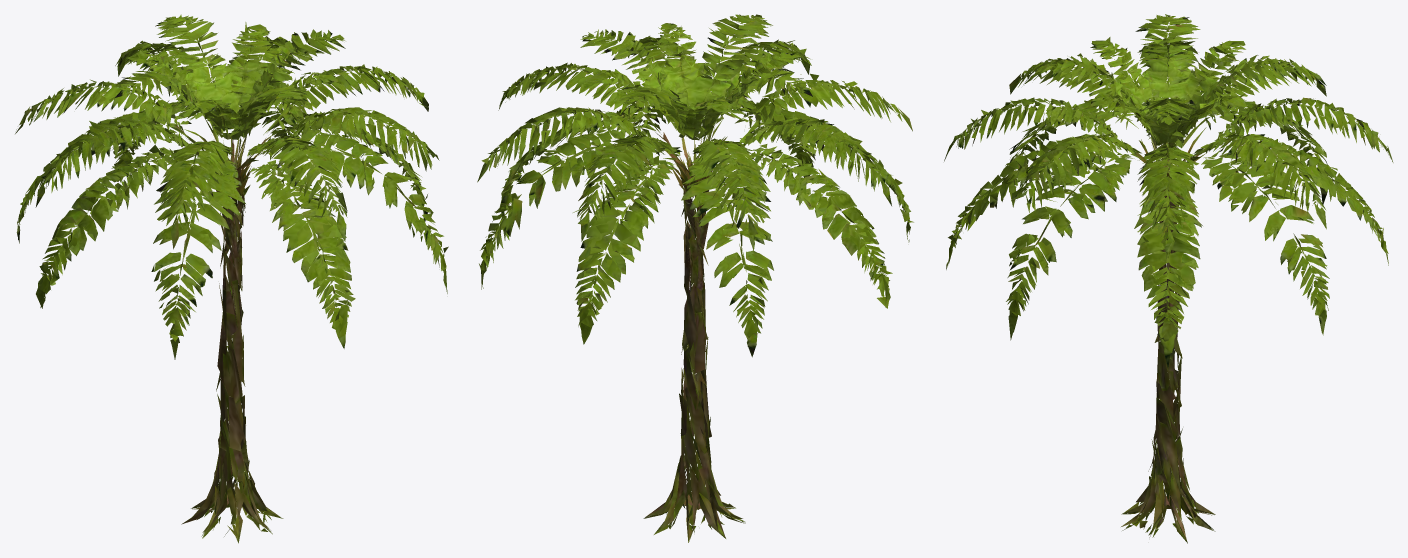
Rendered from treefern2.glb.
The picture shows the model from 3 angles, left to right: view 1: azimuth 30°, elevation 25°; view 2: azimuth 150°, elevation 25°; view 3: azimuth 270°, elevation 25°; orthographic projection.
Parts seen in each view (by area): view 1: Mesh_0; view 2: Mesh_0; view 3: Mesh_0.
Boxes of the visible parts, x1,y1,x2,y2 form: Mesh_0: [15, 14, 448, 543]; Mesh_0: [477, 14, 913, 542]; Mesh_0: [944, 14, 1393, 543].
Bounding box in the file's own units: 0.886 × 1.01 × 0.8861.
1 material, 1 textured.
